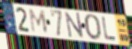2: (15, 7, 30, 34)
7: (50, 9, 64, 38)
L: (101, 16, 117, 42)
M: (29, 8, 49, 34)
N: (64, 11, 85, 39)
O: (83, 13, 102, 42)
